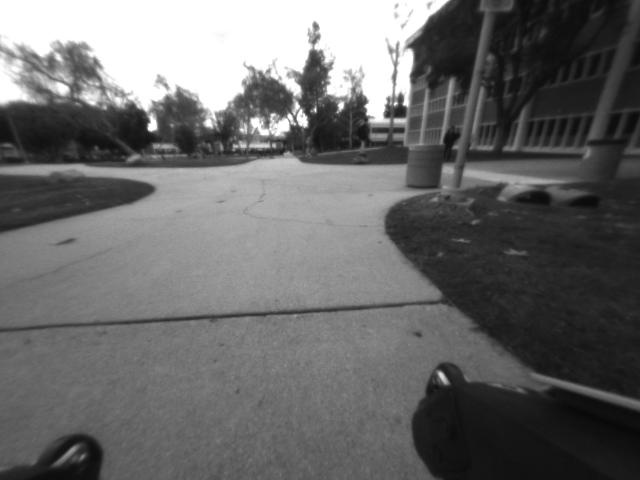trashcan: (409, 142, 446, 191), (580, 140, 621, 181)
